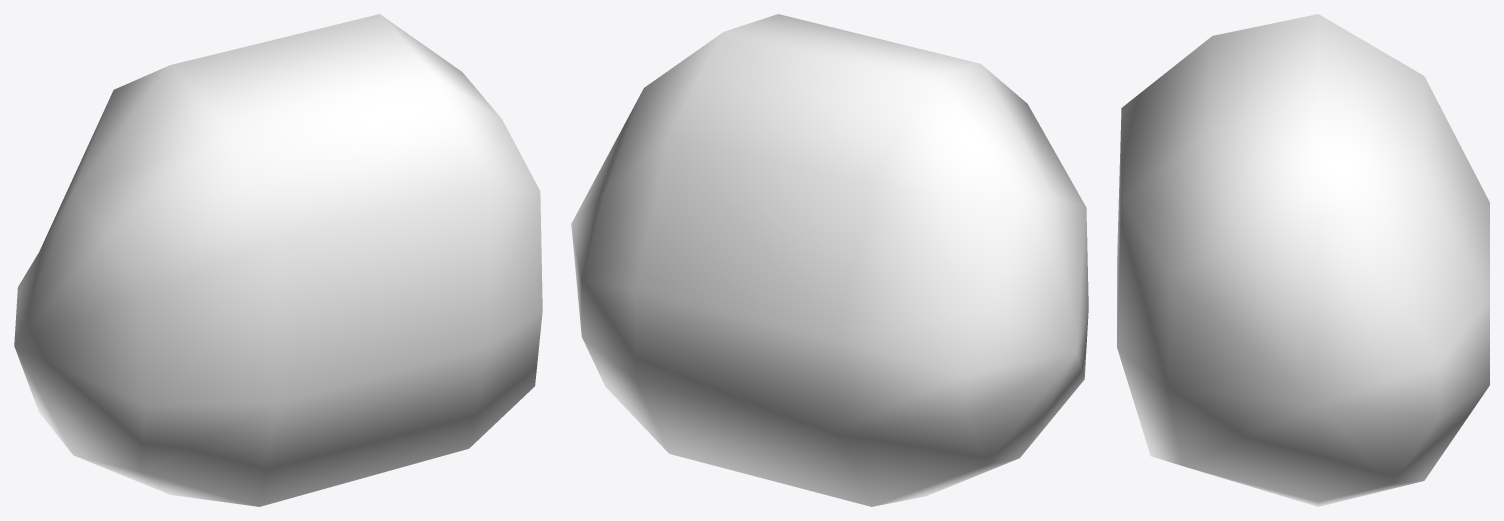
Rendered from Stone-5.fbx.
3 renders of one model, left to right at view 1: azimuth 30°, elevation 25°; view 2: azimuth 150°, elevation 25°; view 3: azimuth 270°, elevation 25°, orthographic. The views are drawn at different scales.
Visible parts, largest first — view 1: pCylinder5; view 2: pCylinder5; view 3: pCylinder5.
Boxes of the visible parts, x1,y1,x2,y2 form: pCylinder5: [14, 14, 542, 506]; pCylinder5: [571, 14, 1088, 506]; pCylinder5: [1117, 14, 1489, 506].
Bounding box in the file's own units: 0.4452 × 0.3492 × 0.2927.
